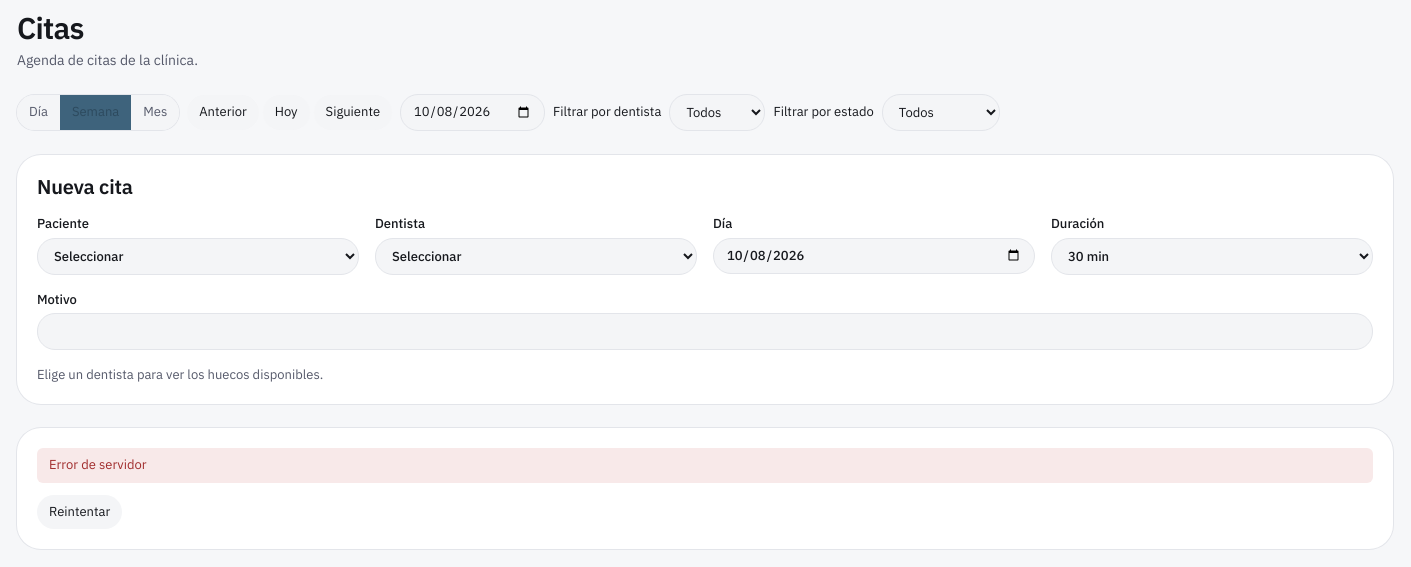
Citas — agenda por vistas › muestra error de carga y permite reintentar
Check: the text "Error de servidor" is shown, box [37,448,1373,483]
Click the button "Reintentar" at point(80, 512), box [37,495,122,530]
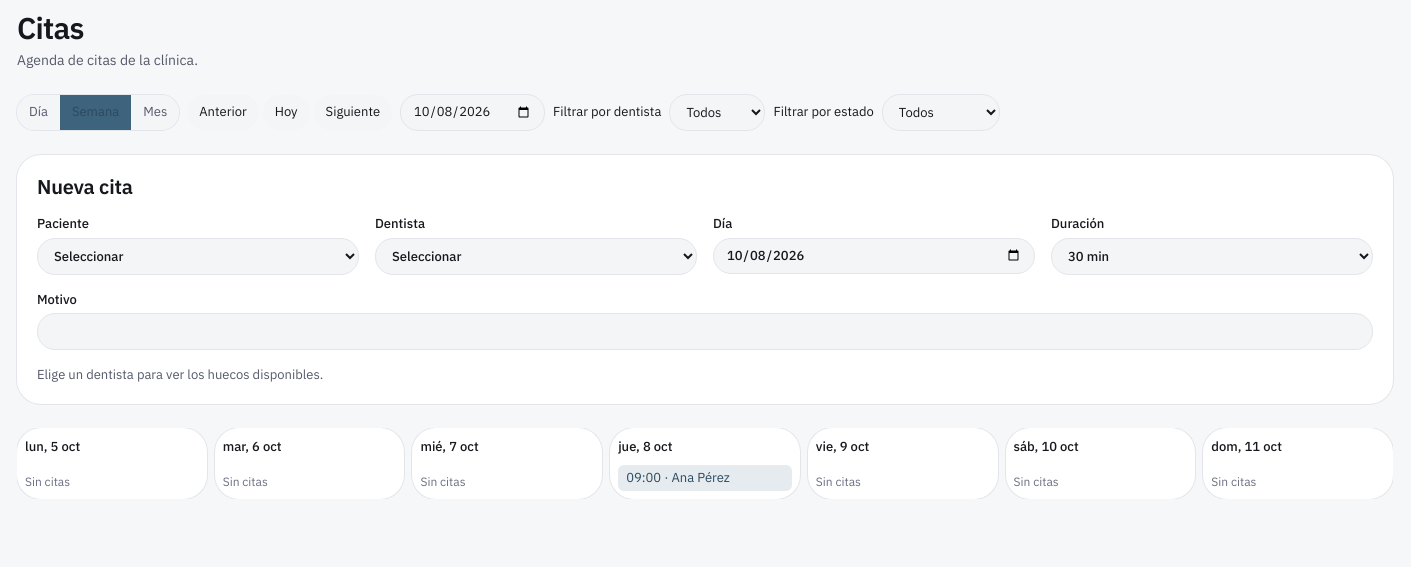
Check: the text "09:00 · Ana Pérez" is shown, box [626,469,730,486]
